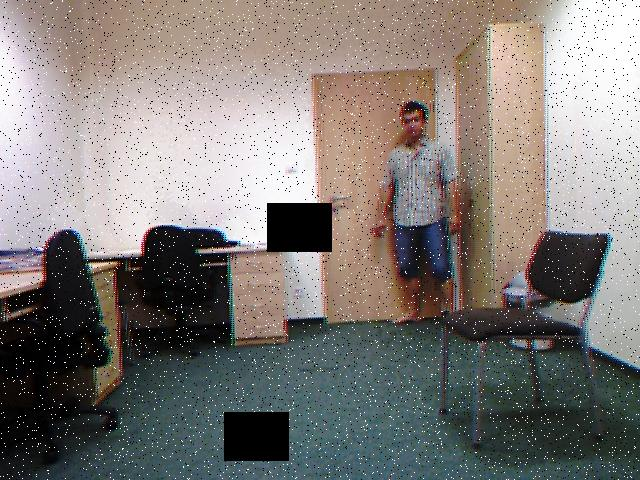standing: (379, 98, 457, 325)
